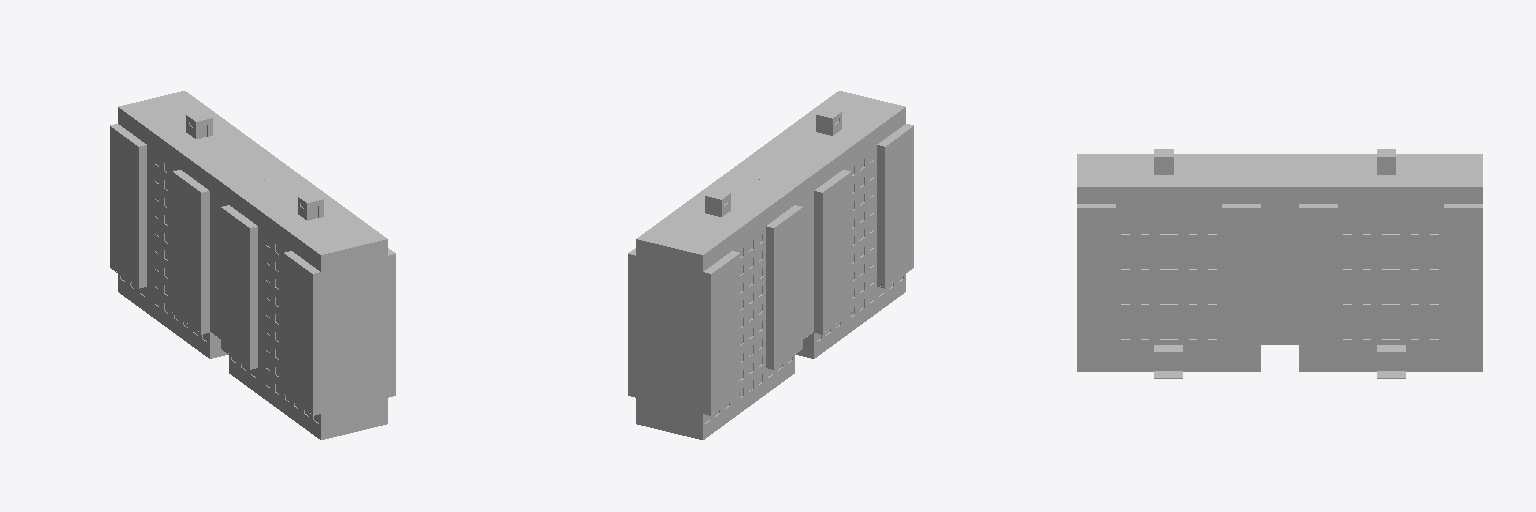
File: building9.obj
3 renders of one model, left to right at view 1: azimuth 30°, elevation 25°; view 2: azimuth 150°, elevation 25°; view 3: azimuth 270°, elevation 25°, orthographic.
Visible parts, largest first — view 1: Cube.005_Cube.020, Cube_Cube.001, Cube.004_Cube.019, Cube.001_Cube.003, Cube.006_Cube.009, Cube.002_Cube.018, Cube.003_Cube.005; view 2: Cube_Cube.001, Cube.005_Cube.020, Cube.001_Cube.003, Cube.004_Cube.019, Cube.006_Cube.009, Cube.003_Cube.005, Cube.002_Cube.018; view 3: Cube.005_Cube.020, Cube_Cube.001, Cube.004_Cube.019, Cube.001_Cube.003, Cube.006_Cube.009, Cube.002_Cube.018, Cube.003_Cube.005.
Boxes of the visible parts, box(x1,y1,x2,y2) form: Cube.005_Cube.020: box(221, 172, 395, 429); Cube_Cube.001: box(110, 91, 275, 348); Cube.004_Cube.019: box(221, 209, 395, 414); Cube.001_Cube.003: box(110, 127, 209, 333); Cube.006_Cube.009: box(210, 158, 294, 348); Cube.002_Cube.018: box(229, 364, 387, 439); Cube.003_Cube.005: box(118, 282, 227, 358); Cube_Cube.001: box(628, 172, 802, 429); Cube.005_Cube.020: box(748, 91, 913, 348); Cube.001_Cube.003: box(628, 209, 802, 414); Cube.004_Cube.019: box(814, 127, 913, 333); Cube.006_Cube.009: box(729, 158, 813, 348); Cube.003_Cube.005: box(636, 364, 794, 439); Cube.002_Cube.018: box(796, 282, 905, 358); Cube.005_Cube.020: box(1077, 149, 1260, 378); Cube_Cube.001: box(1299, 149, 1482, 378); Cube.004_Cube.019: box(1077, 209, 1260, 348); Cube.001_Cube.003: box(1299, 209, 1482, 348); Cube.006_Cube.009: box(1261, 154, 1298, 344); Cube.002_Cube.018: box(1077, 362, 1260, 371); Cube.003_Cube.005: box(1299, 362, 1482, 371).
Bounding box in the file's own units: 10.74 × 23.14 × 42.